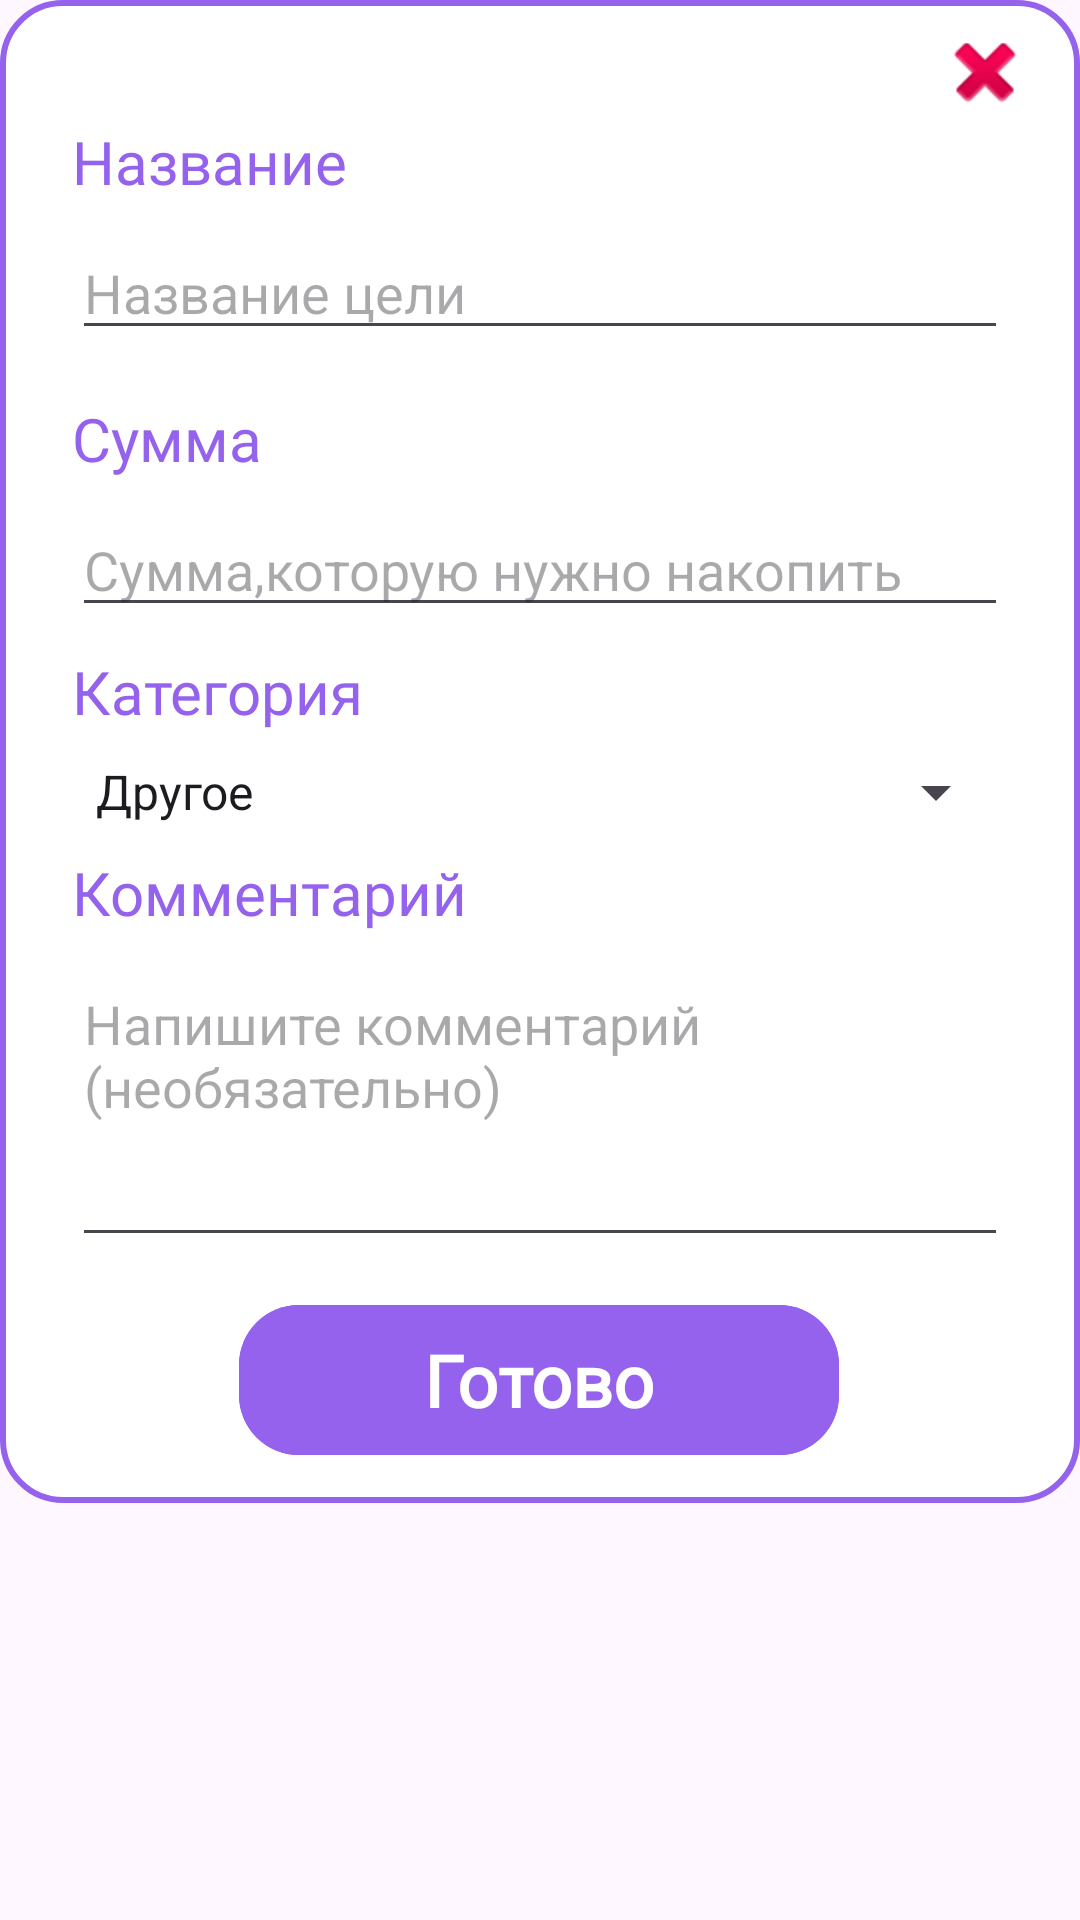

Where icons sit on this 1080*1920 app screen, as (x1, y1, x2, y2):
delete: (954, 43, 1016, 102)
